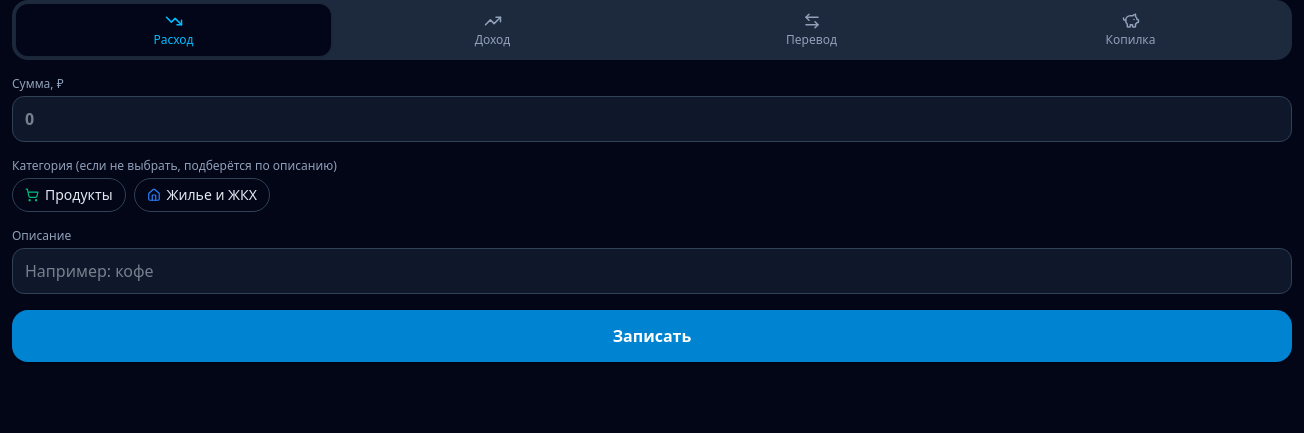
EntryForm (Mini App input) › records an expense with the chosen category
expect the element named "Тип записи" is shown: met, box [12,0,1292,60]
Type "540" into the field labelled "Сумма, ₽" at (652, 119), box [12,96,1292,142]
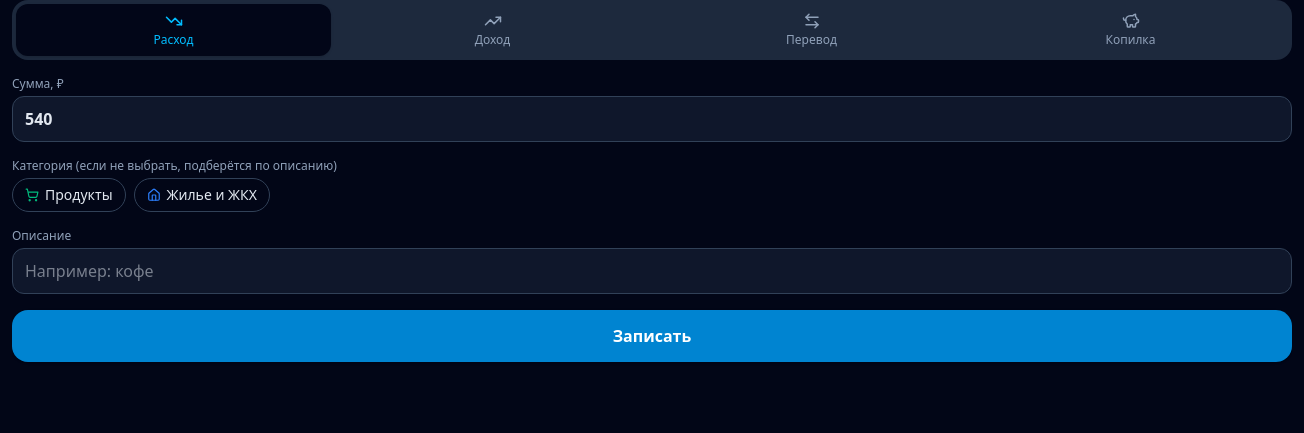
Type "Кофе" into the field labelled "Описание" at (652, 271), box [12,248,1292,294]
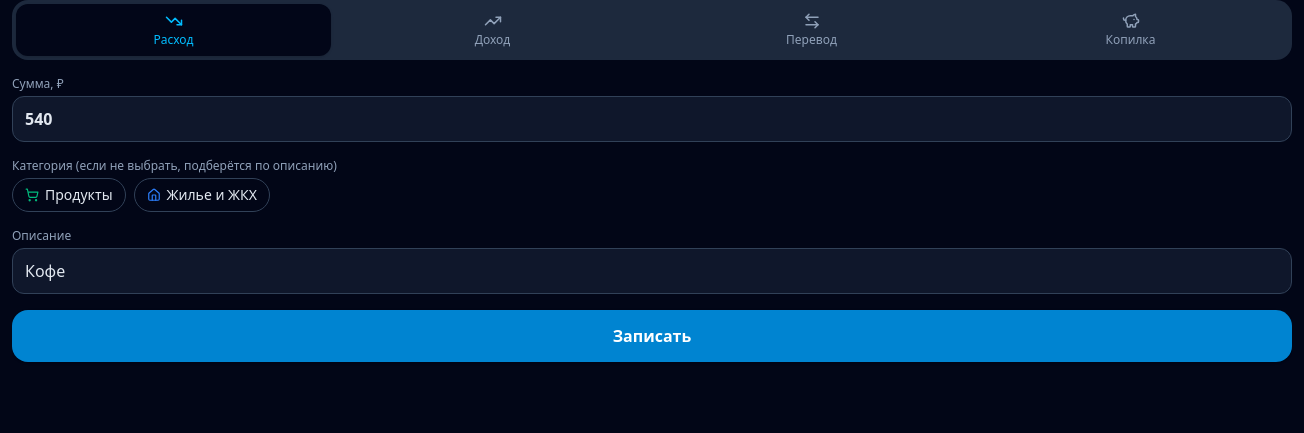
Click the button "Продукты" at (69, 195), box [12,178,126,212]
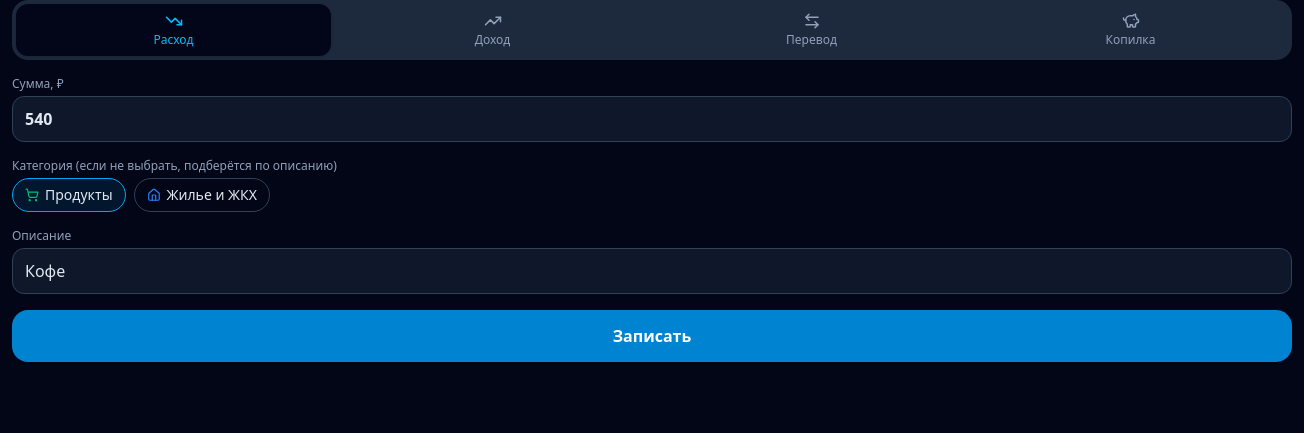
Click the button "Записать" at (652, 336), box [12,310,1292,362]
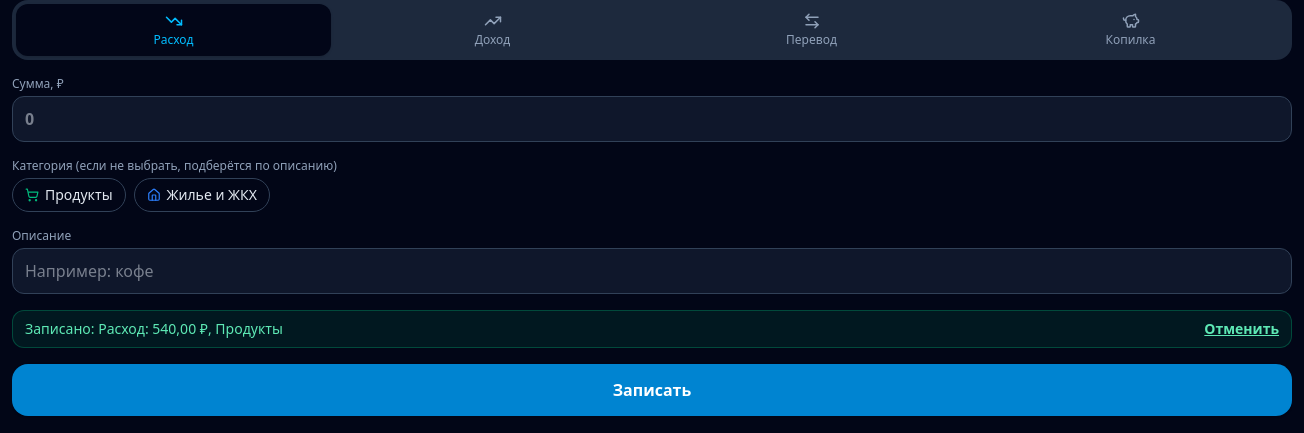
expect the text "Записано: Расход: 540,00 ₽, Продукты" is shown: met, box [25,319,283,339]
expect the field labelled "Сумма, ₽" is empty: met, box [12,96,1292,142]
